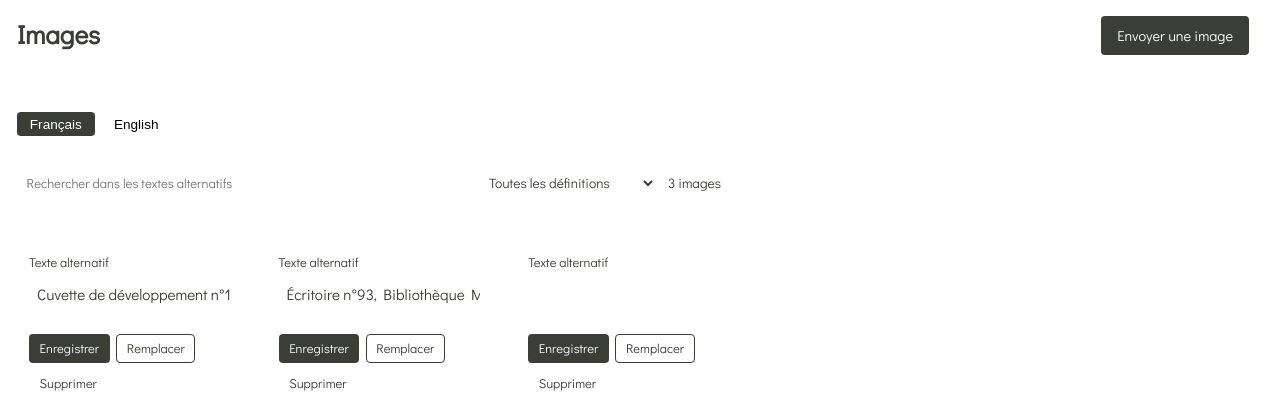
MediaLibrary search › filters to the matching images, and counts them
In the search field labelled "Rechercher dans les textes alternatifs": point(241, 184) [17,167,465,200], type "cuvette"
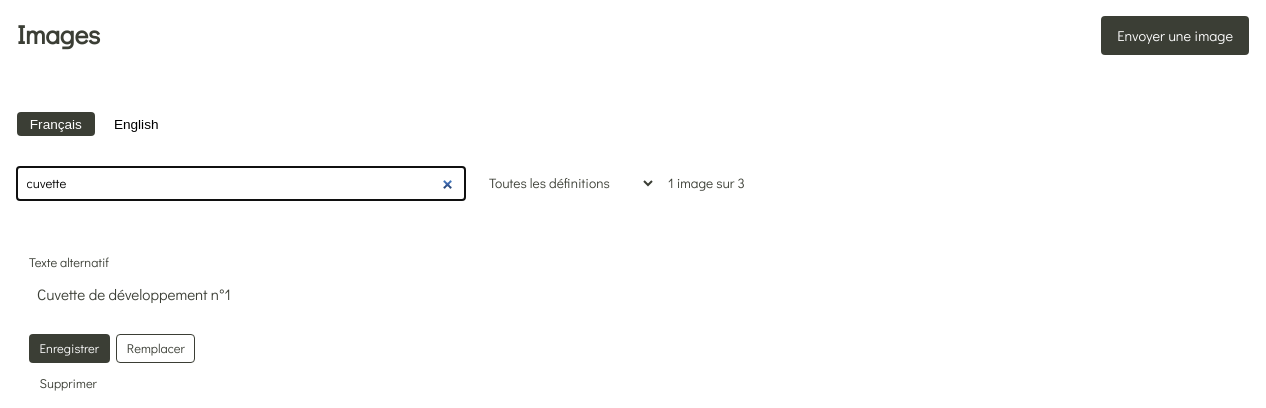
Expected: the text "1 image sur 3" is shown, [668,173,745,195]
